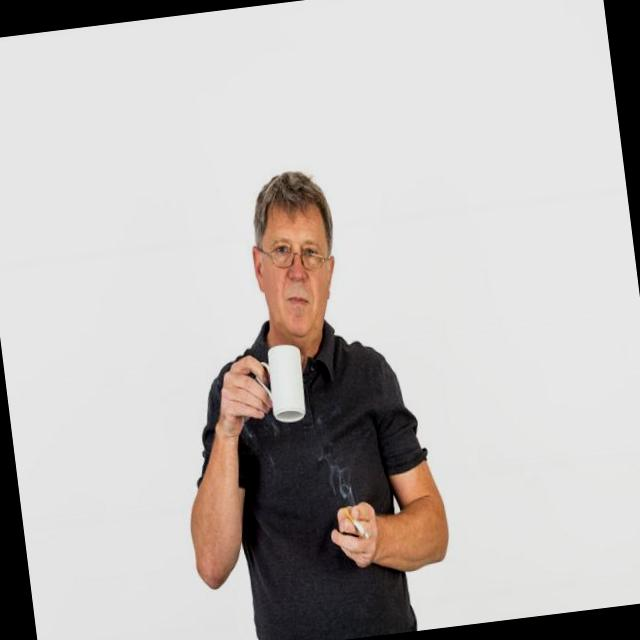smoke: (343, 499, 372, 550)
